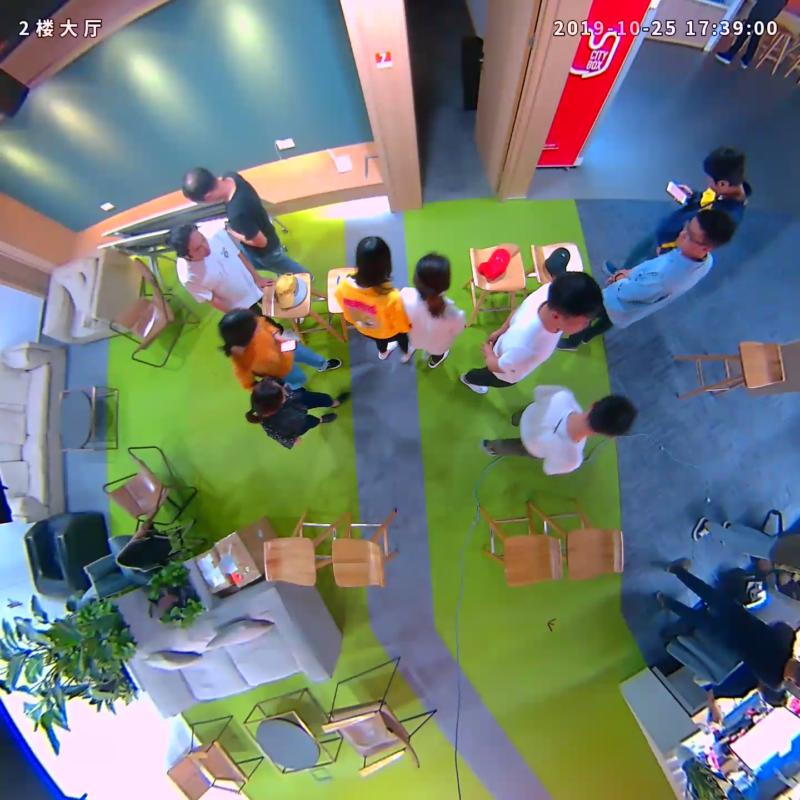head: (549, 269, 603, 336), (674, 209, 734, 253), (582, 394, 637, 438), (703, 147, 747, 197), (356, 234, 393, 281), (167, 222, 211, 261), (412, 252, 452, 294), (218, 307, 258, 348), (180, 167, 223, 203), (250, 377, 287, 415)
